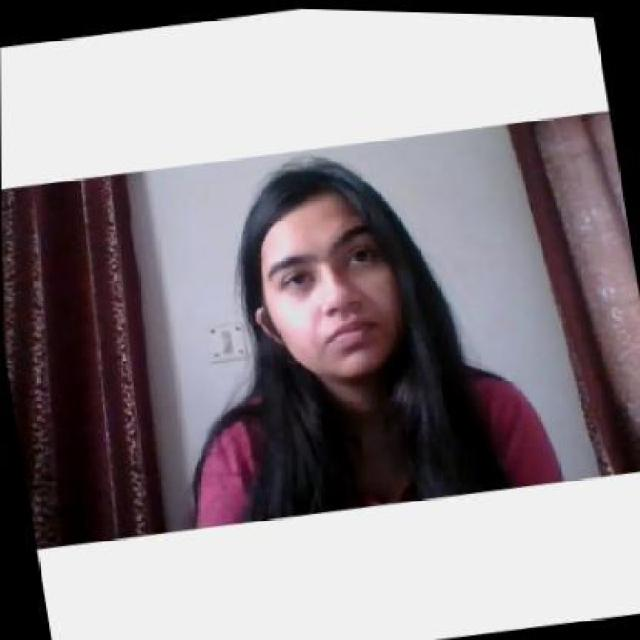attentif: (228, 147, 409, 391)
